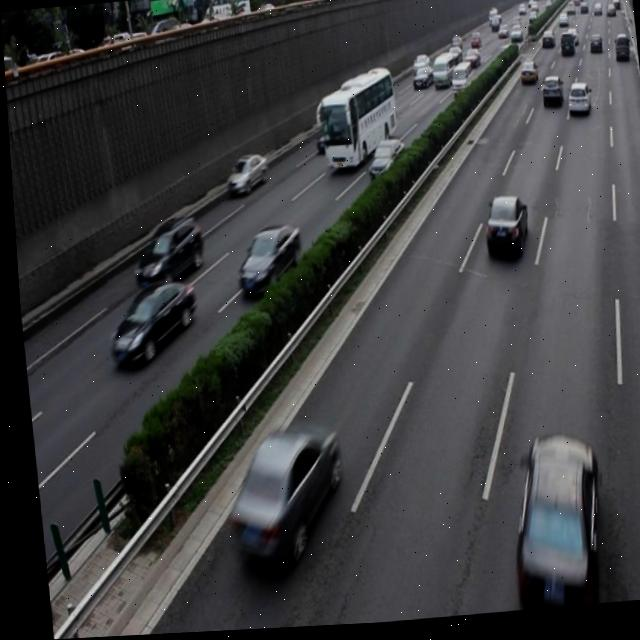car: (493, 434, 599, 615), (212, 421, 340, 569), (98, 275, 195, 367), (124, 213, 201, 288), (228, 224, 300, 299), (475, 196, 525, 264), (221, 153, 266, 197), (362, 140, 404, 185)
van: (311, 69, 398, 175)
